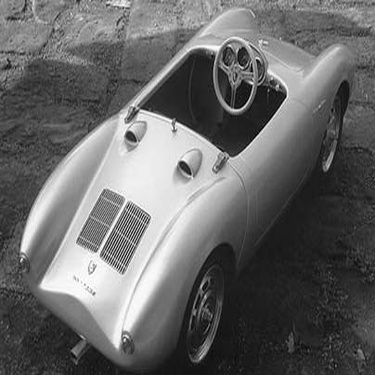car: (12, 4, 360, 369)
